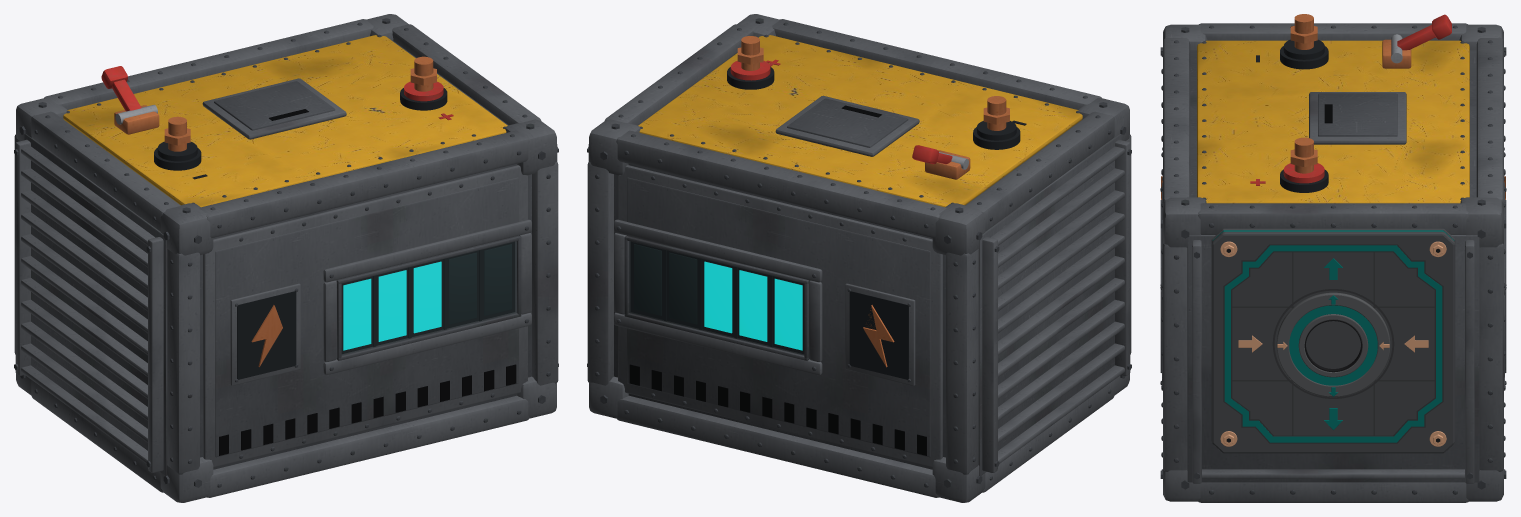
Rendered from battery.glb.
3 views of the same model, side by side, from view 1: azimuth 30°, elevation 25°; view 2: azimuth 150°, elevation 25°; view 3: azimuth 270°, elevation 25° (orthographic). The views are drawn at different scales.
Parts seen in each view (by area): view 1: Housing, Glass, CellR2On, CellR0On, CellR1On, CellR3Off, CellR4Off; view 2: Housing, Glass, CellL2On, CellL0On, CellL1On, CellL3Off, CellL4Off; view 3: Housing, IOPort.
Boxes of the visible parts, x1,y1,x2,y2 form: Housing: (14, 14, 558, 502); Glass: (342, 241, 516, 355); CellR2On: (413, 261, 441, 333); CellR0On: (343, 278, 371, 350); CellR1On: (378, 270, 406, 341); CellR3Off: (448, 252, 476, 324); CellR4Off: (484, 244, 511, 315); Housing: (587, 14, 1131, 502); Glass: (629, 241, 803, 355); CellL2On: (704, 261, 732, 333); CellL0On: (774, 278, 802, 350); CellL1On: (739, 270, 767, 341); CellL3Off: (669, 252, 697, 324); CellL4Off: (634, 244, 661, 315); Housing: (1160, 14, 1506, 502); IOPort: (1211, 228, 1455, 453).
Bounding box in the file's own units: 0.999 × 0.7541 × 0.7106.
Materials: 20 (8 with a texture image).
